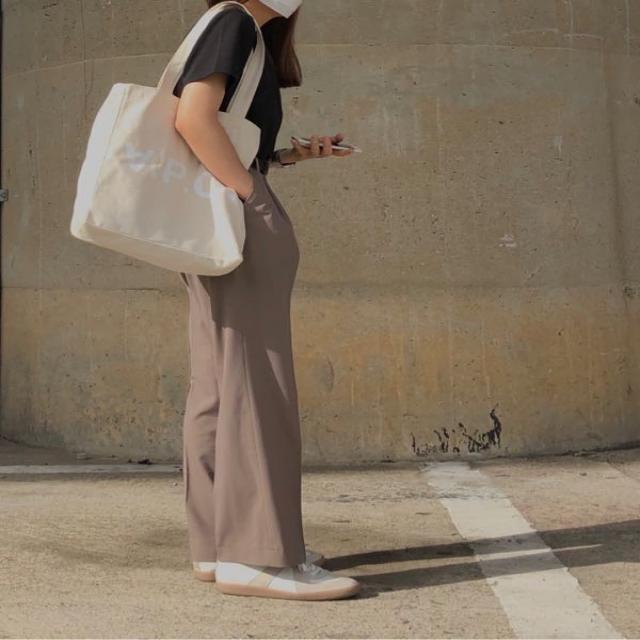shortsleeve: (173, 2, 298, 173)
slacks: (185, 180, 310, 571)
